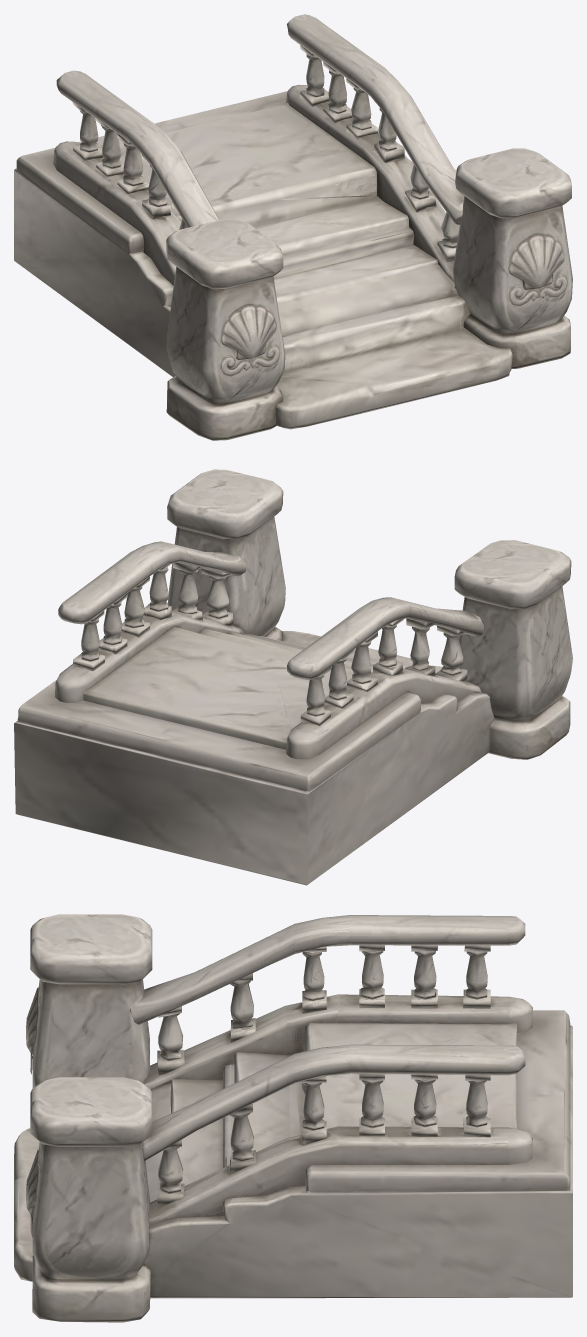
The model's file is tidestair.glb.
3 views of the same model, one above another, from view 1: azimuth 30°, elevation 25°; view 2: azimuth 150°, elevation 25°; view 3: azimuth 270°, elevation 25° (orthographic). The views are drawn at different scales.
Bounding box in the file's own units: 1.93 × 1.01 × 2.16.
Materials: 1 (1 with a texture image).
